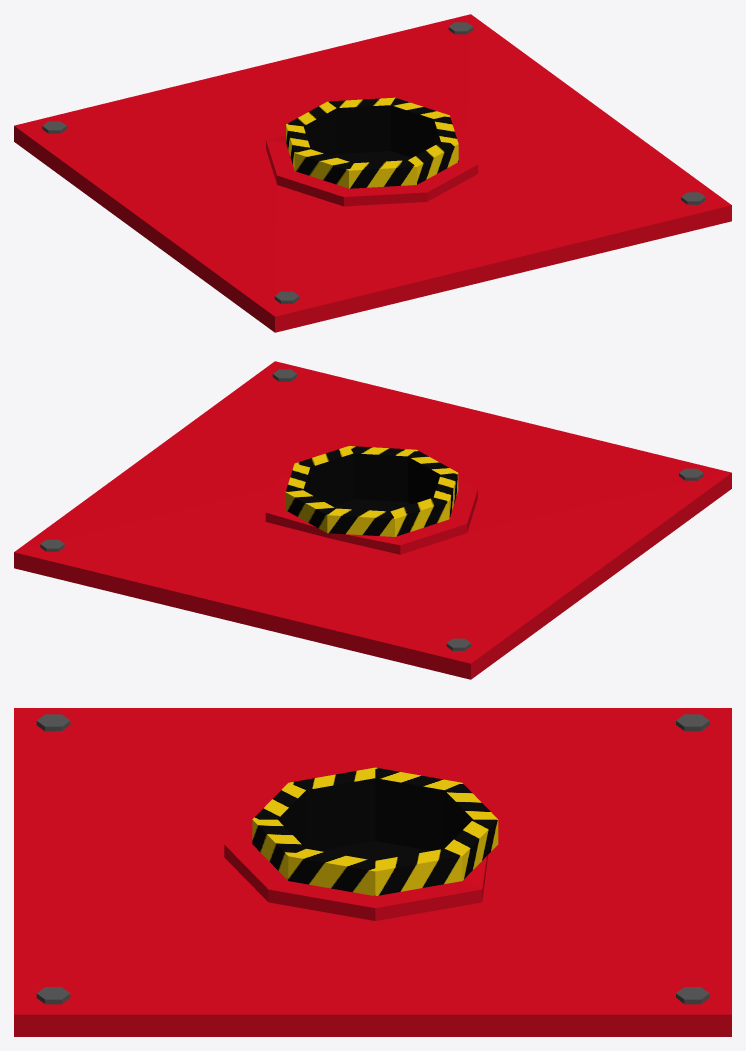
Rendered from Pembuangan Air Besar.fbx.
3 renders of one model, top to bottom at view 1: azimuth 30°, elevation 25°; view 2: azimuth 150°, elevation 25°; view 3: azimuth 270°, elevation 25°, orthographic. The views are drawn at different scales.
Visible parts, largest first — view 1: Selokan Besar; view 2: Selokan Besar; view 3: Selokan Besar.
Part boxes in pixels (left/top/right/bottom): Selokan Besar: left=14, top=14, right=731, bottom=332; Selokan Besar: left=14, top=361, right=731, bottom=679; Selokan Besar: left=14, top=708, right=731, bottom=1036.
Size of the model in its own units: 799 by 77.95 by 790.
